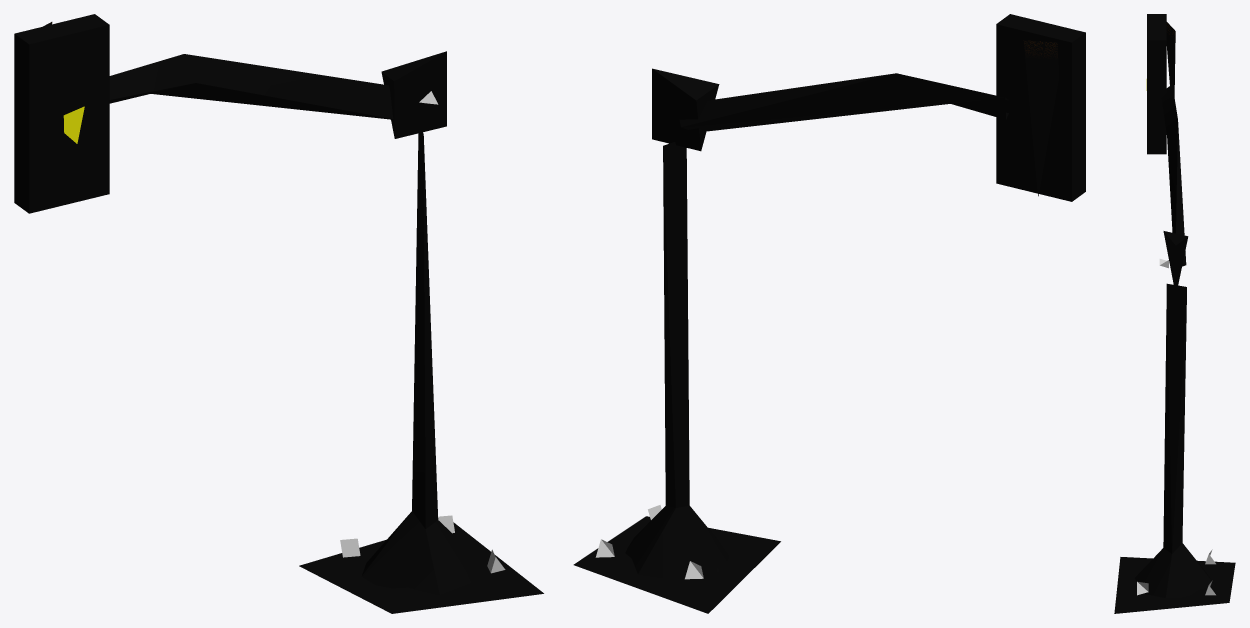
Rendered from SemaforoTransitoLOD2.fbx.
3 renders of one model, left to right at view 1: azimuth 30°, elevation 25°; view 2: azimuth 150°, elevation 25°; view 3: azimuth 270°, elevation 25°, orthographic. The views are drawn at different scales.
Parts seen in each view (by area): view 1: SemaforoLOD2; view 2: SemaforoLOD2; view 3: SemaforoLOD2.
Boxes of the visible parts, left/top/right/bottom form: SemaforoLOD2: left=14, top=14, right=543, bottom=613; SemaforoLOD2: left=573, top=14, right=1085, bottom=613; SemaforoLOD2: left=1114, top=14, right=1235, bottom=613.
Bounding box in the file's own units: 349 × 443 × 111.
